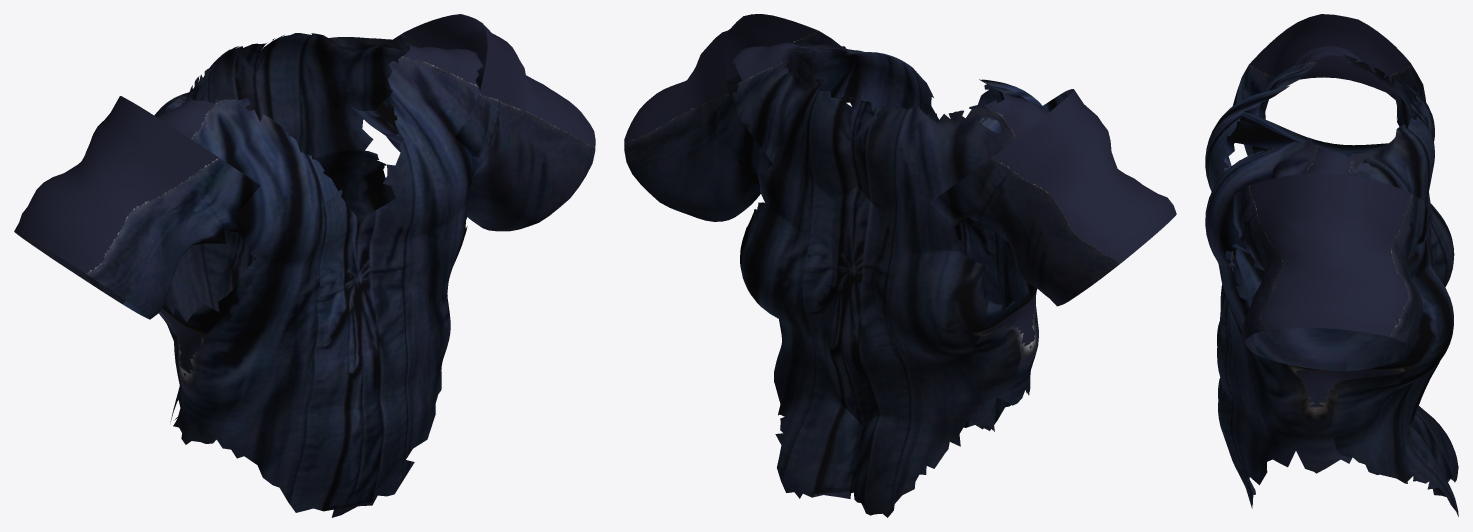
File: kosode.glb
3 views of the same model, side by side, from view 1: azimuth 30°, elevation 25°; view 2: azimuth 150°, elevation 25°; view 3: azimuth 270°, elevation 25° (orthographic). The views are drawn at different scales.
Parts seen in each view (by area): view 1: kosode_Right, kosode_Left, RightArm, LeftArm; view 2: kosode_Right, kosode_Left, RightArm, LeftArm; view 3: kosode_Left, LeftArm, RightArm, kosode_Right.
Boxes of the visible parts, bbox=[...] form: kosode_Right: bbox=[154, 43, 364, 517]; kosode_Left: bbox=[246, 33, 482, 514]; RightArm: bbox=[14, 96, 259, 319]; LeftArm: bbox=[348, 14, 595, 231]; kosode_Right: bbox=[840, 79, 1049, 517]; kosode_Left: bbox=[732, 43, 954, 498]; RightArm: bbox=[930, 89, 1176, 306]; LeftArm: bbox=[624, 14, 857, 221]; kosode_Left: bbox=[1205, 107, 1458, 516]; LeftArm: bbox=[1231, 173, 1430, 370]; RightArm: bbox=[1231, 14, 1426, 156]; kosode_Right: bbox=[1205, 46, 1458, 493].
Bounding box in the file's own units: 0.7488 × 0.5612 × 0.3198.
Materials: 1 (1 with a texture image).
